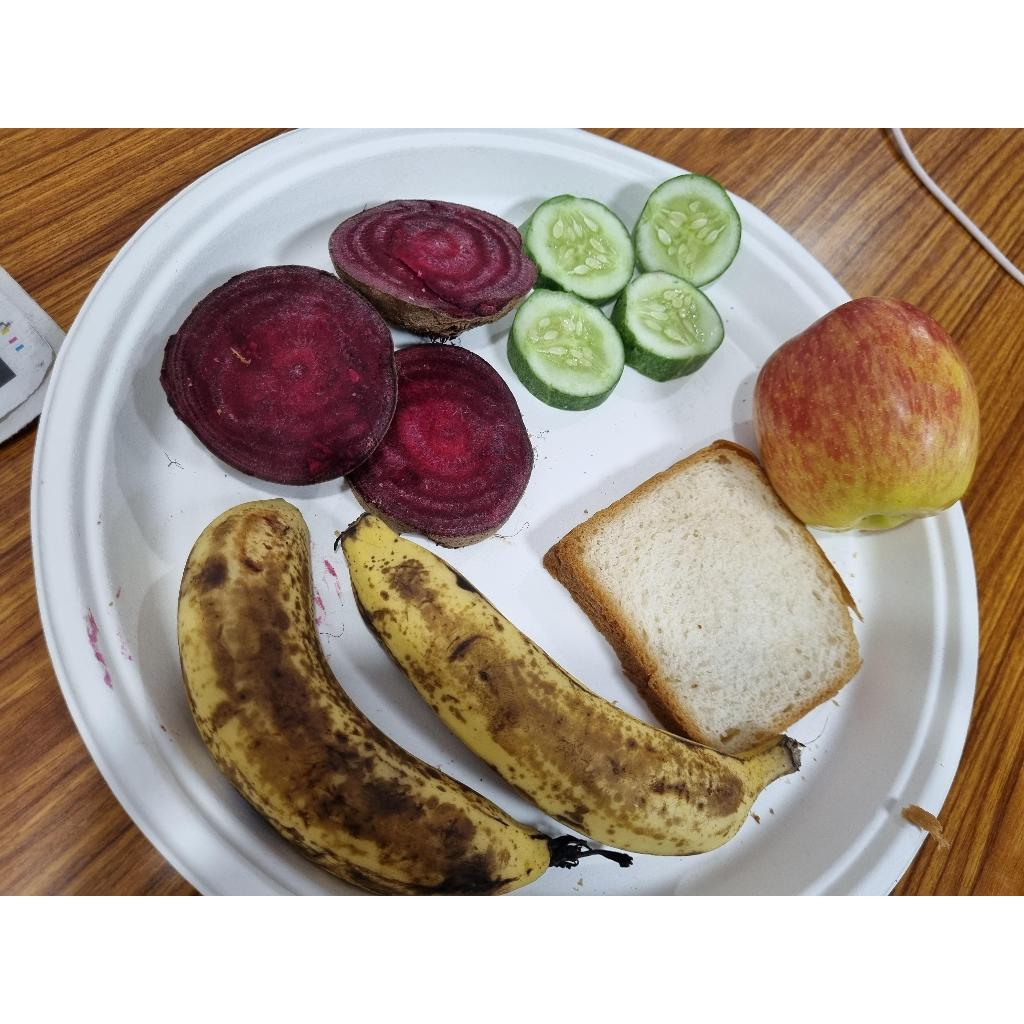apple: (751, 297, 983, 536)
banana: (339, 513, 799, 860), (177, 501, 552, 894)
cucumber: (509, 284, 627, 415), (521, 195, 640, 323), (613, 272, 727, 384), (634, 174, 743, 291)
